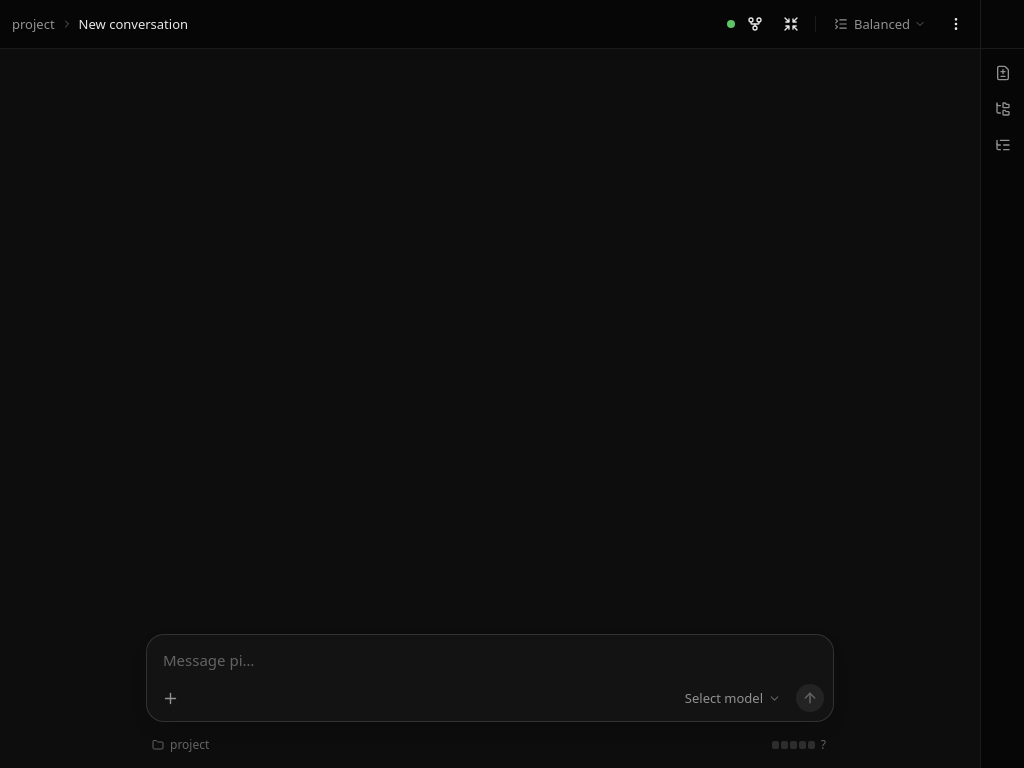
Test: ConversationScreen width › caps them on desktop with the review pane closed and open
Click the 1st button named "Changes panel" at x=1002, y=73, box [986,57,1018,89]
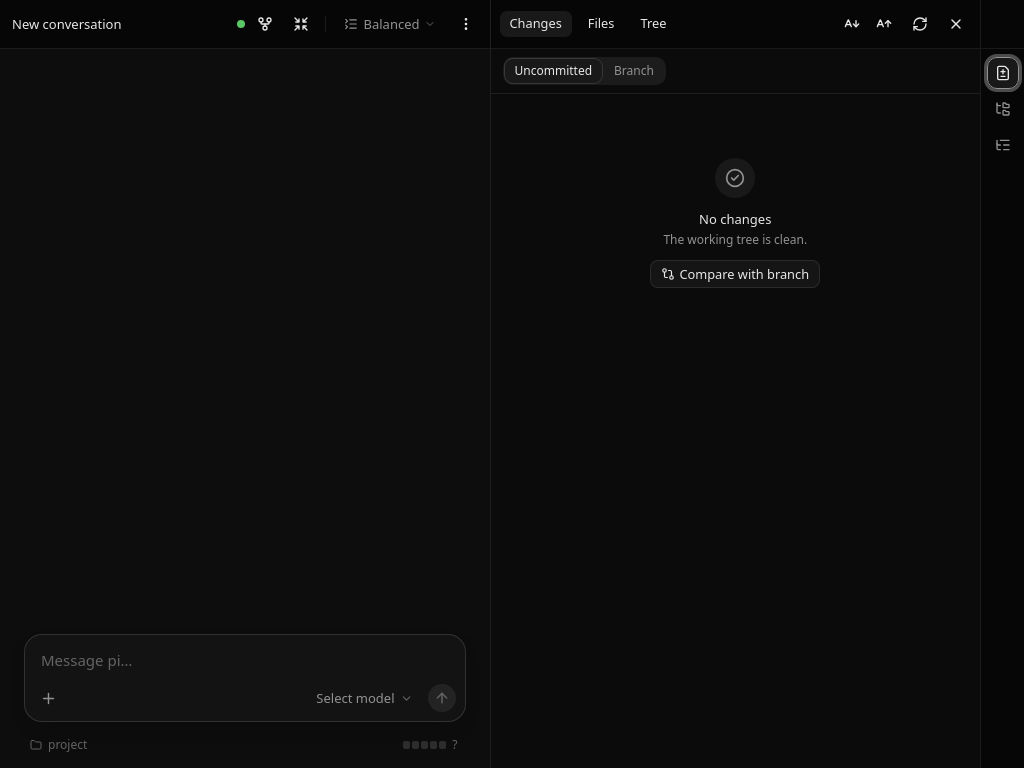
Expected: the element named "Review" is shown, [490,0,980,767]
